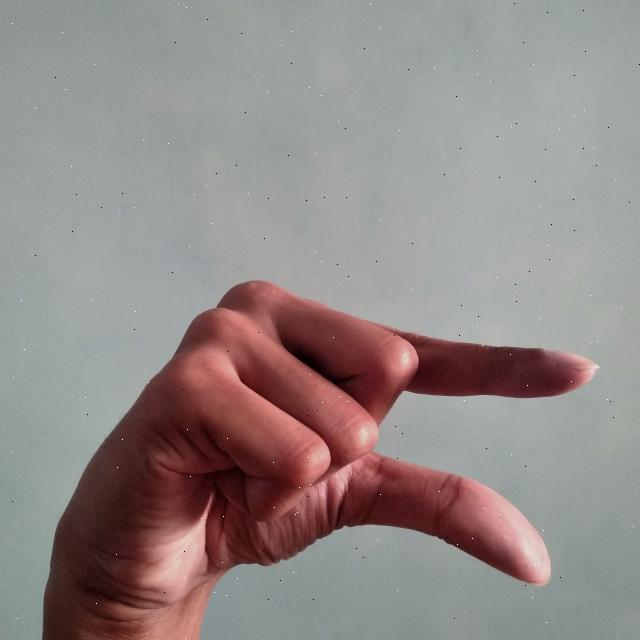G: (39, 276, 604, 640)
